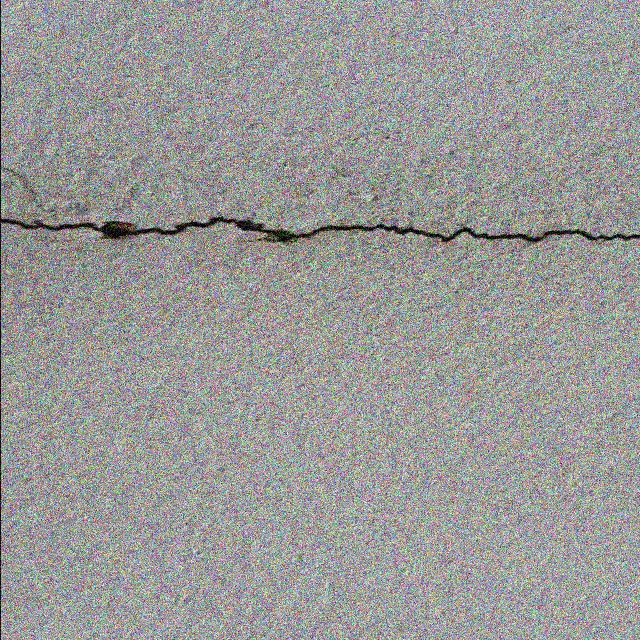SurfaceCrack: (1, 157, 640, 291)
